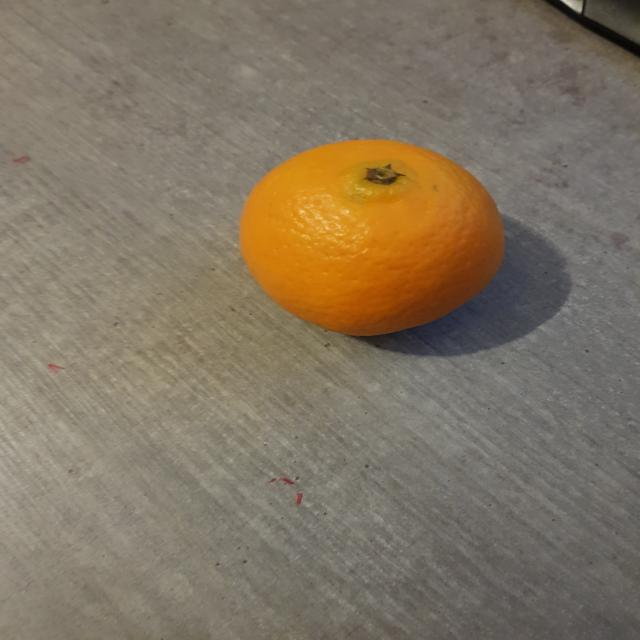Orange: (238, 140, 506, 338)
